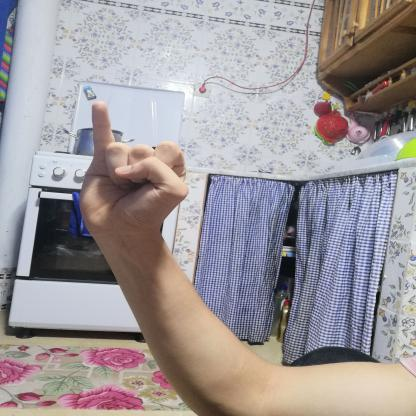MEEM: (58, 92, 198, 246)
